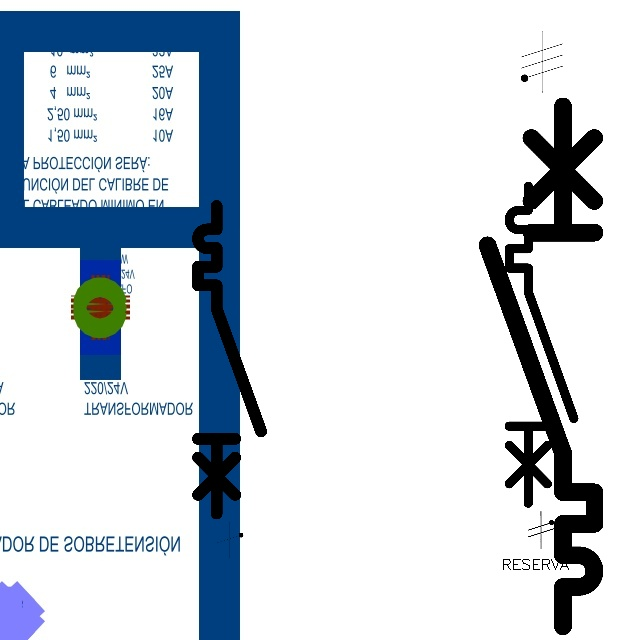interruptor_termomagnetico: (474, 92, 608, 639), (501, 178, 582, 511), (190, 198, 269, 522)
